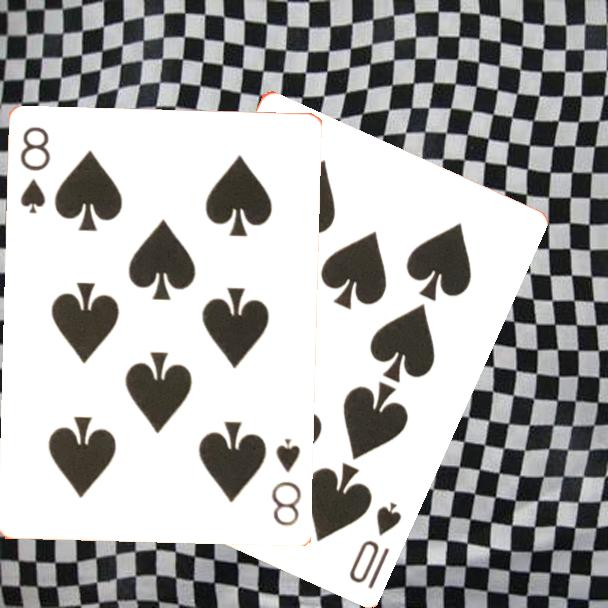s08: (17, 124, 54, 217), (269, 435, 305, 529)
s10: (345, 497, 404, 591)
